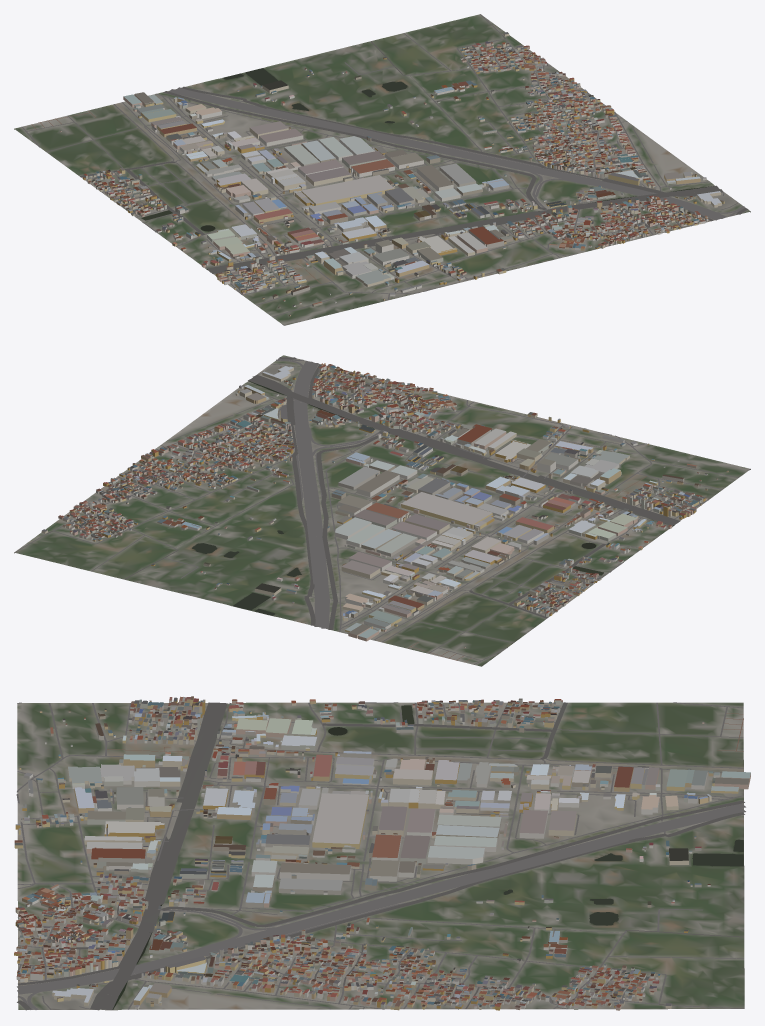
3 renders of one model, top to bottom at view 1: azimuth 30°, elevation 25°; view 2: azimuth 150°, elevation 25°; view 3: azimuth 270°, elevation 25°, orthographic. The views are drawn at different scales.
Visible parts, largest first — view 1: ground, buildings, roads, water; view 2: ground, buildings, roads, water; view 3: ground, buildings, roads, water.
Boxes of the visible parts, x1,y1,x2,y2 form: ground: (14, 14, 750, 325); buildings: (60, 32, 724, 316); roads: (21, 14, 748, 325); water: (141, 68, 713, 269); ground: (14, 355, 750, 666); buildings: (41, 363, 728, 648); roads: (14, 357, 750, 664); water: (192, 381, 673, 615); ground: (17, 702, 744, 1010); buildings: (14, 696, 750, 1010); roads: (16, 702, 745, 1010); water: (112, 705, 743, 1009).
Size of the model in its own units: 1415 by 30.53 by 1422.
